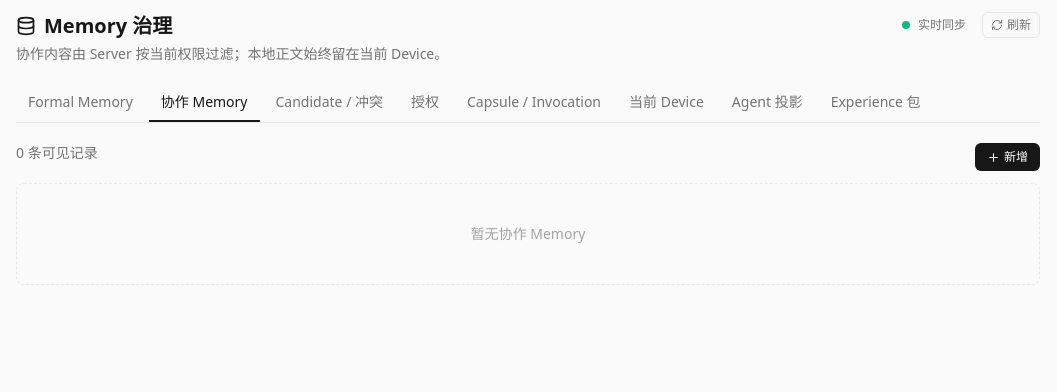
Test: Formal Memory Center (issue #716) › renders Formal Memory list with kind label (AC#1)
Click the button "Formal Memory" at [80, 103], box top-left (16, 84), bottom-right (145, 122)
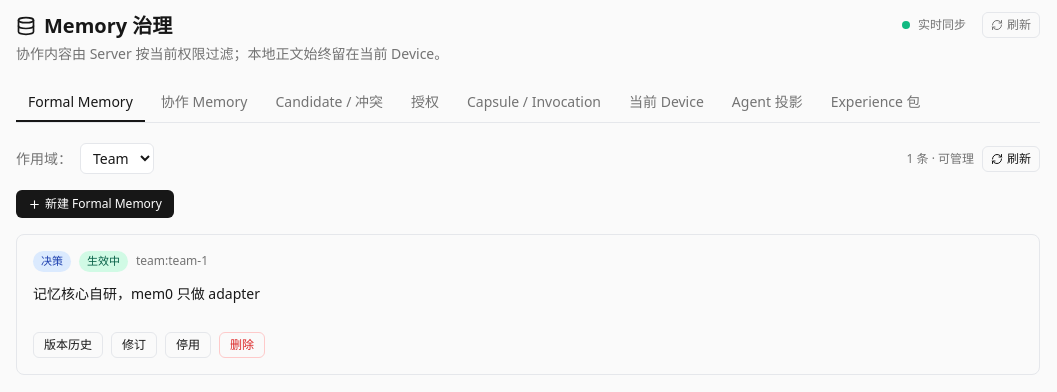
Result: the text "记忆核心自研，mem0 只做 adapter" is shown at top-left (33, 284), bottom-right (260, 302)
Result: the text "决策" is shown at top-left (33, 251), bottom-right (71, 272)
